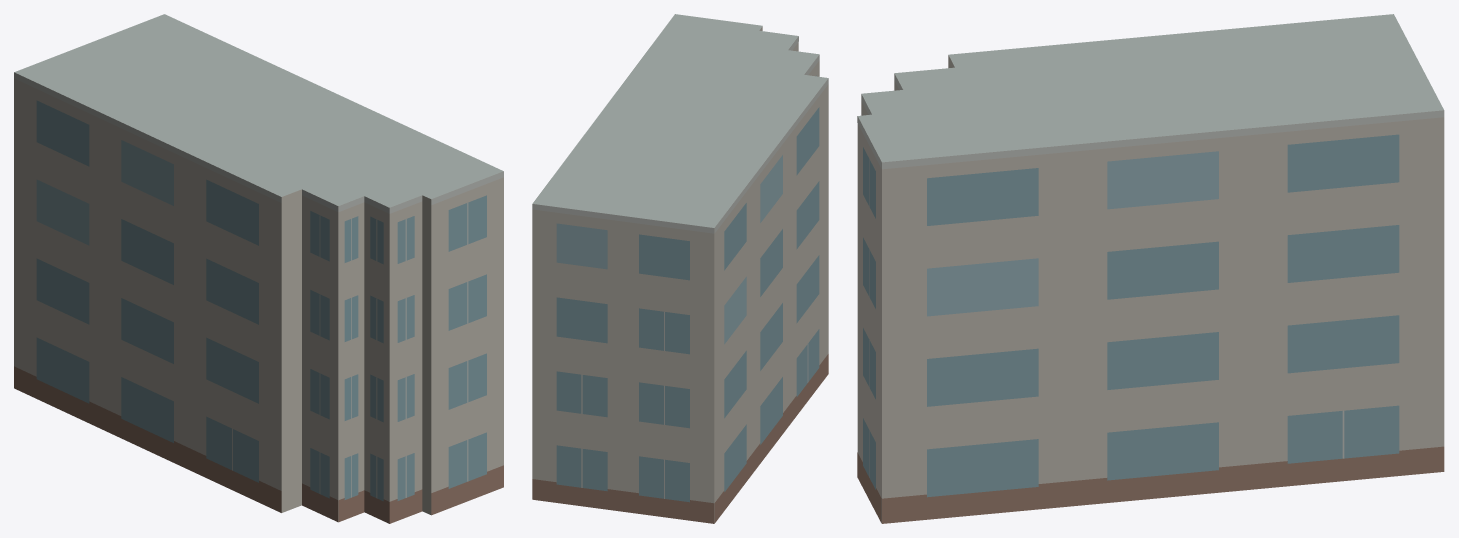
Rendered from survey-upis-32812262.glb.
3 renders of one model, left to right at view 1: azimuth 30°, elevation 25°; view 2: azimuth 150°, elevation 25°; view 3: azimuth 270°, elevation 25°, orthographic. The views are drawn at different scales.
Visible parts, largest first — view 1: survey-upis-32812262.tmp; view 2: survey-upis-32812262.tmp; view 3: survey-upis-32812262.tmp.
Part boxes in pixels (bbox=[...]): survey-upis-32812262.tmp: bbox=[14, 14, 503, 523]; survey-upis-32812262.tmp: bbox=[532, 14, 828, 523]; survey-upis-32812262.tmp: bbox=[857, 14, 1444, 523].
Size of the model in its own units: 11.22 by 12.73 by 18.74.
